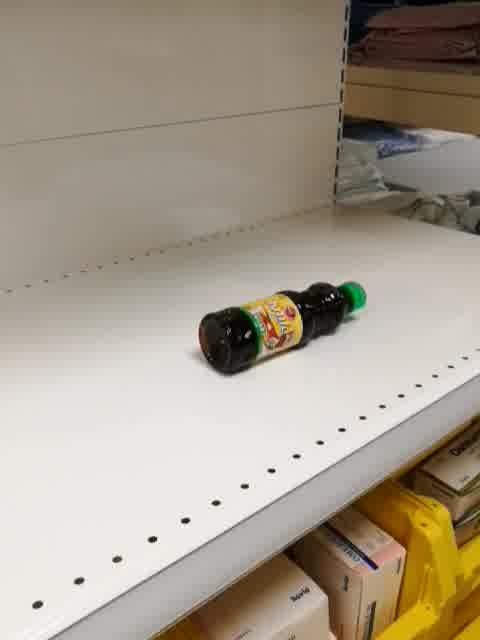cookingoil: (195, 277, 372, 377)
